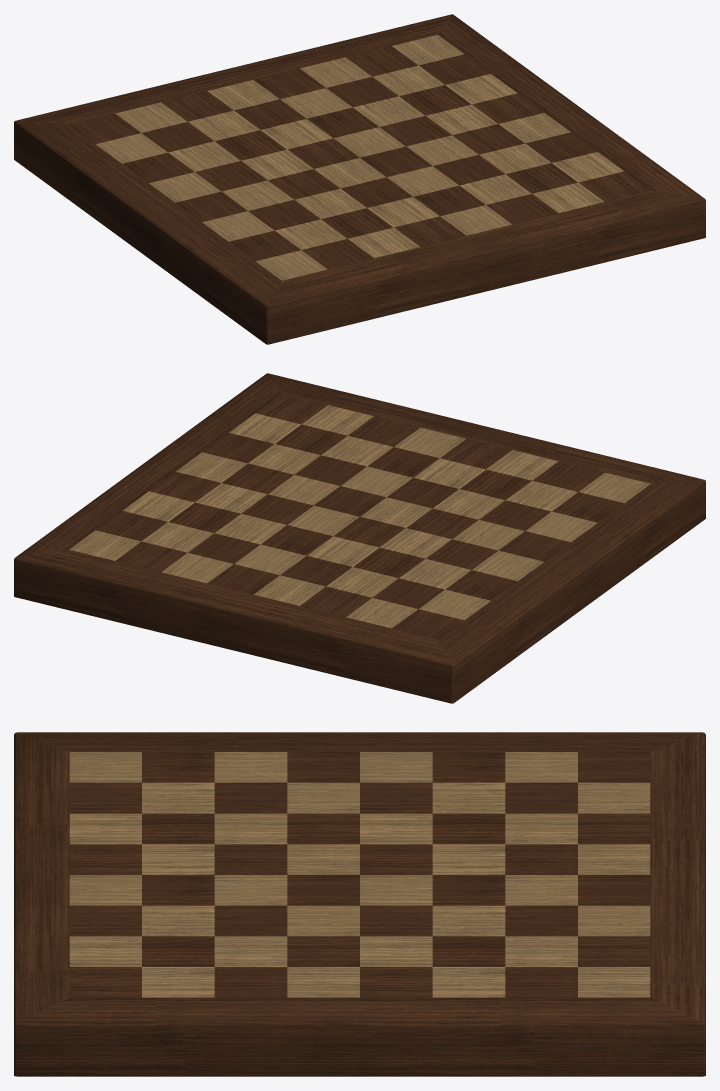
The model's file is chess-board.glb.
3 views of the same model, one above another, from view 1: azimuth 30°, elevation 25°; view 2: azimuth 150°, elevation 25°; view 3: azimuth 270°, elevation 25° (orthographic). The views are drawn at different scales.
Parts seen in each view (by area): view 1: Chess_Board; view 2: Chess_Board; view 3: Chess_Board.
Boxes of the visible parts, x1,y1,x2,y2 form: Chess_Board: (14, 14, 705, 344); Chess_Board: (14, 373, 705, 703); Chess_Board: (14, 732, 705, 1076).
Size of the model in its own units: 0.5658 by 0.05 by 0.5658.
Materials: 2 (2 with a texture image).
